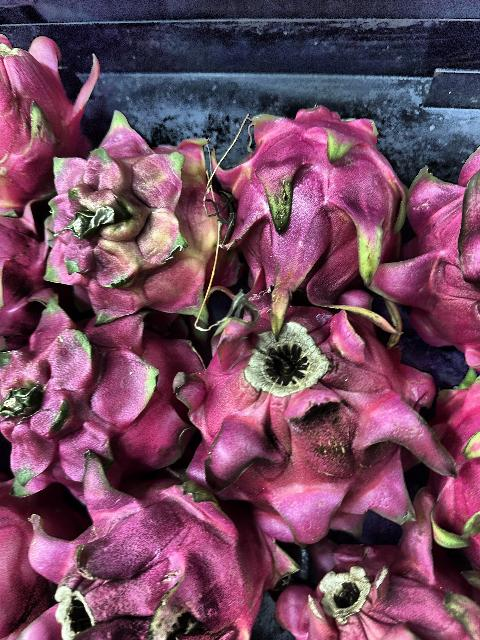buah-naga-belum-matang: (33, 148, 237, 322)
buah-naga-matang: (182, 301, 462, 539), (26, 458, 280, 640), (223, 108, 411, 332), (0, 302, 202, 492), (280, 528, 468, 640), (392, 136, 480, 358), (1, 20, 100, 208), (0, 480, 68, 640), (0, 212, 74, 351), (432, 361, 480, 561)
